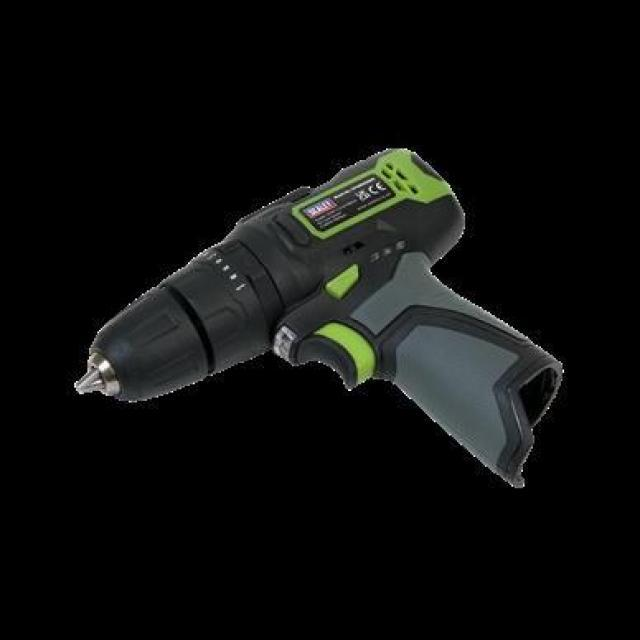drill: (75, 150, 563, 488)
